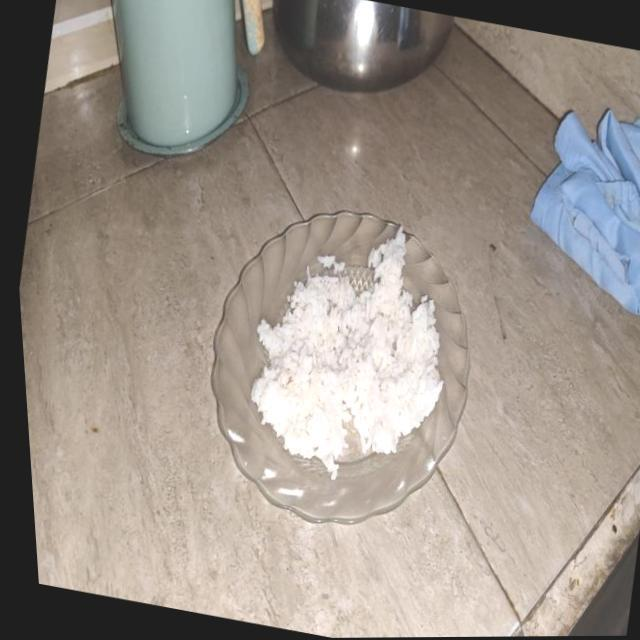nasi_putih: (251, 228, 444, 480)
